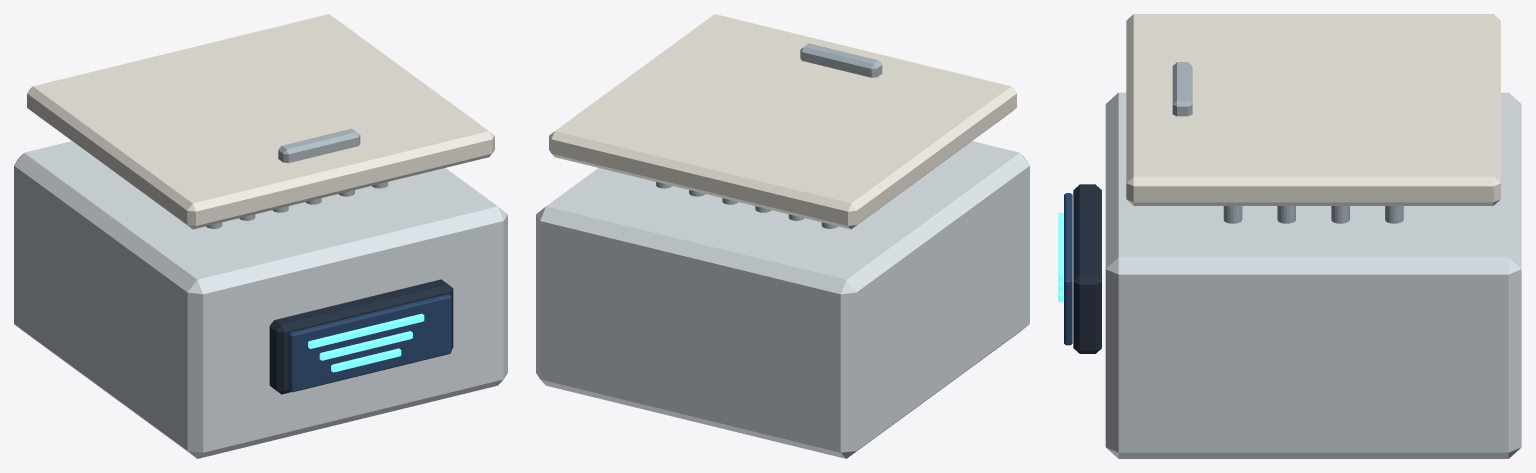
File: lab_09.glb
3 views of the same model, side by side, from view 1: azimuth 30°, elevation 25°; view 2: azimuth 150°, elevation 25°; view 3: azimuth 270°, elevation 25° (orthographic). The views are drawn at different scales.
Visible parts, largest first — view 1: PCRBody, Lid, Screen, MonitorFrame, DisplayLine (×3), Handle; view 2: PCRBody, Lid, Handle; view 3: PCRBody, Lid, MonitorFrame, Screen, Handle.
Part boxes in pixels (x1,y1,x2,y2): PCRBody: [14, 141, 507, 458]; Lid: [27, 14, 494, 229]; Screen: [288, 294, 451, 392]; MonitorFrame: [269, 279, 453, 394]; DisplayLine (×3): [308, 313, 424, 372]; Handle: [278, 128, 360, 163]; PCRBody: [536, 141, 1029, 458]; Lid: [549, 14, 1016, 229]; Handle: [800, 43, 882, 77]; PCRBody: [1105, 92, 1521, 458]; Lid: [1126, 14, 1500, 205]; MonitorFrame: [1073, 184, 1101, 353]; Screen: [1064, 193, 1072, 345]; Handle: [1172, 62, 1192, 116].
Size of the model in its own units: 0.58 by 0.454 by 0.646.
